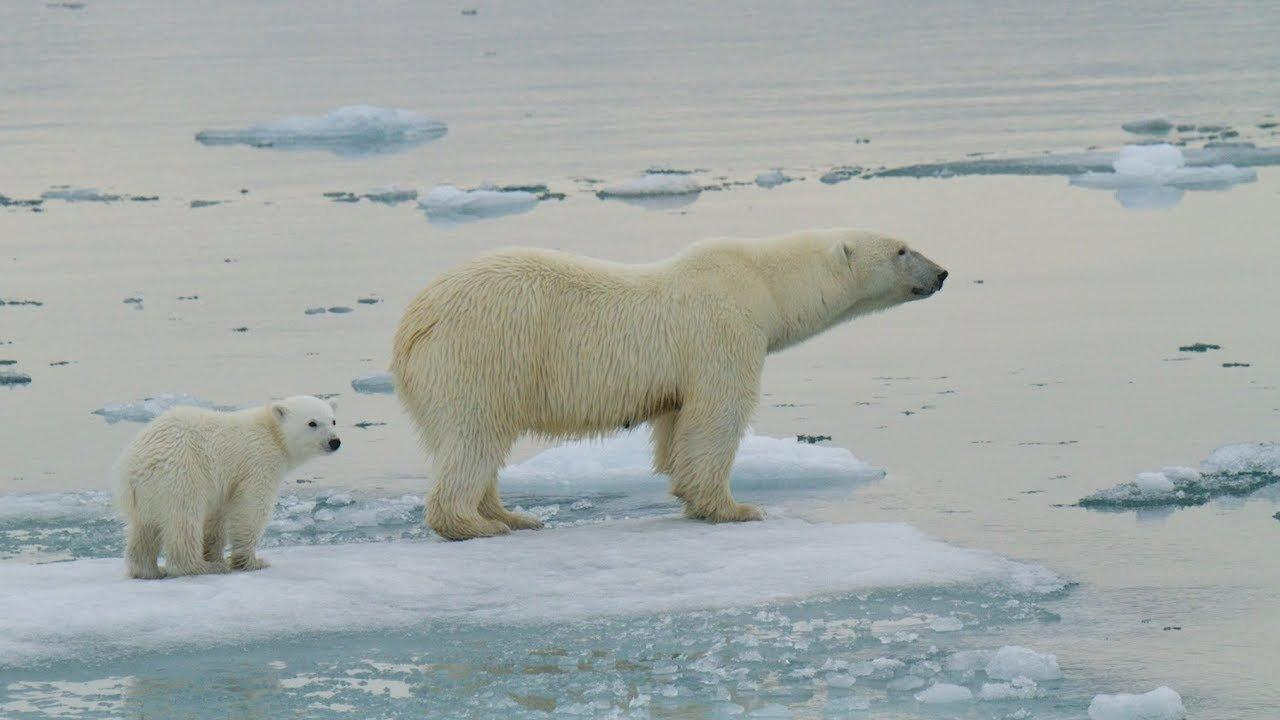bear: (392, 227, 950, 540), (115, 396, 343, 581)
